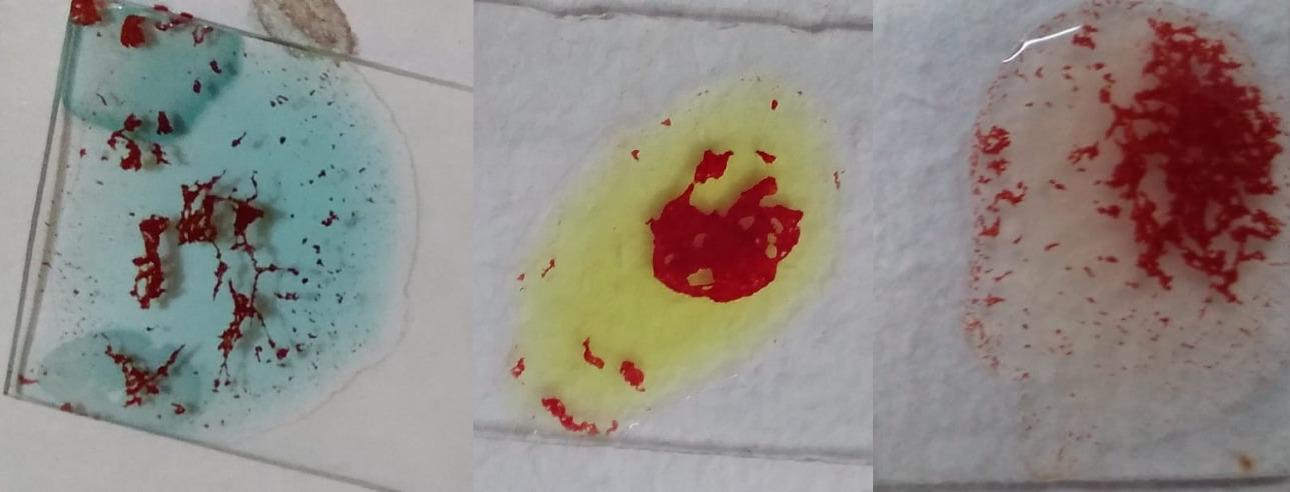A: (72, 16, 392, 428)
B: (534, 79, 836, 416)
D: (989, 4, 1285, 415)
